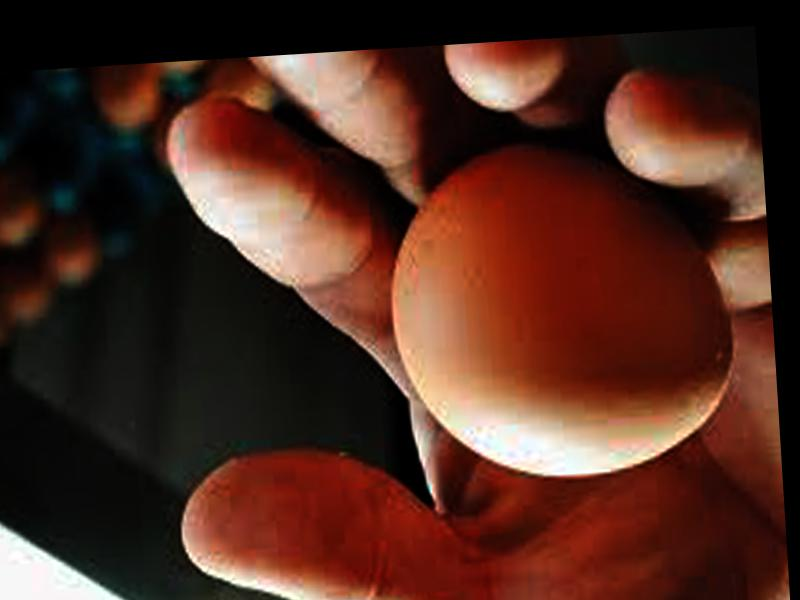Eggs: (380, 125, 745, 485)
